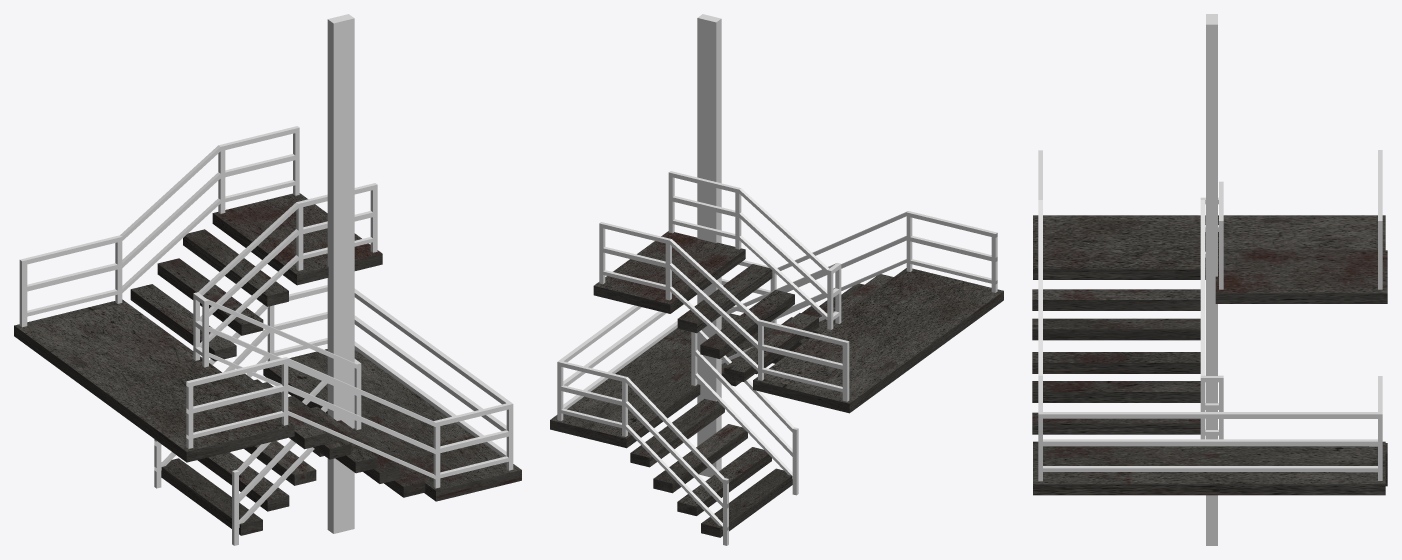
The model's file is ESCALERAS.fbx.
The picture shows the model from 3 angles, left to right: view 1: azimuth 30°, elevation 25°; view 2: azimuth 150°, elevation 25°; view 3: azimuth 270°, elevation 25°; orthographic projection. The views are drawn at different scales.
Visible parts, largest first — view 1: Cube.719, Cube.721, pilar, Cube.723, Cube.720; view 2: Cube.719, Cube.721, Cube.723, pilar, Cube.720; view 3: Cube.719, Cube.721, pilar, Cube.723, Cube.720.
Boxes of the visible parts, bbox=[...] form: Cube.719: bbox=[14, 193, 521, 535]; Cube.721: bbox=[154, 285, 513, 488]; pilar: bbox=[327, 14, 354, 533]; Cube.723: bbox=[193, 183, 377, 545]; Cube.720: bbox=[19, 126, 299, 327]; Cube.719: bbox=[550, 231, 1003, 537]; Cube.721: bbox=[557, 211, 997, 545]; Cube.723: bbox=[668, 171, 841, 495]; pilar: bbox=[697, 14, 721, 477]; Cube.720: bbox=[599, 222, 849, 401]; Cube.719: bbox=[1032, 215, 1387, 495]; Cube.721: bbox=[1038, 150, 1382, 481]; pilar: bbox=[1206, 14, 1217, 545]; Cube.723: bbox=[1200, 181, 1223, 439]; Cube.720: bbox=[1378, 150, 1382, 289].
Bounding box in the file's own units: 495 × 720 × 445.
